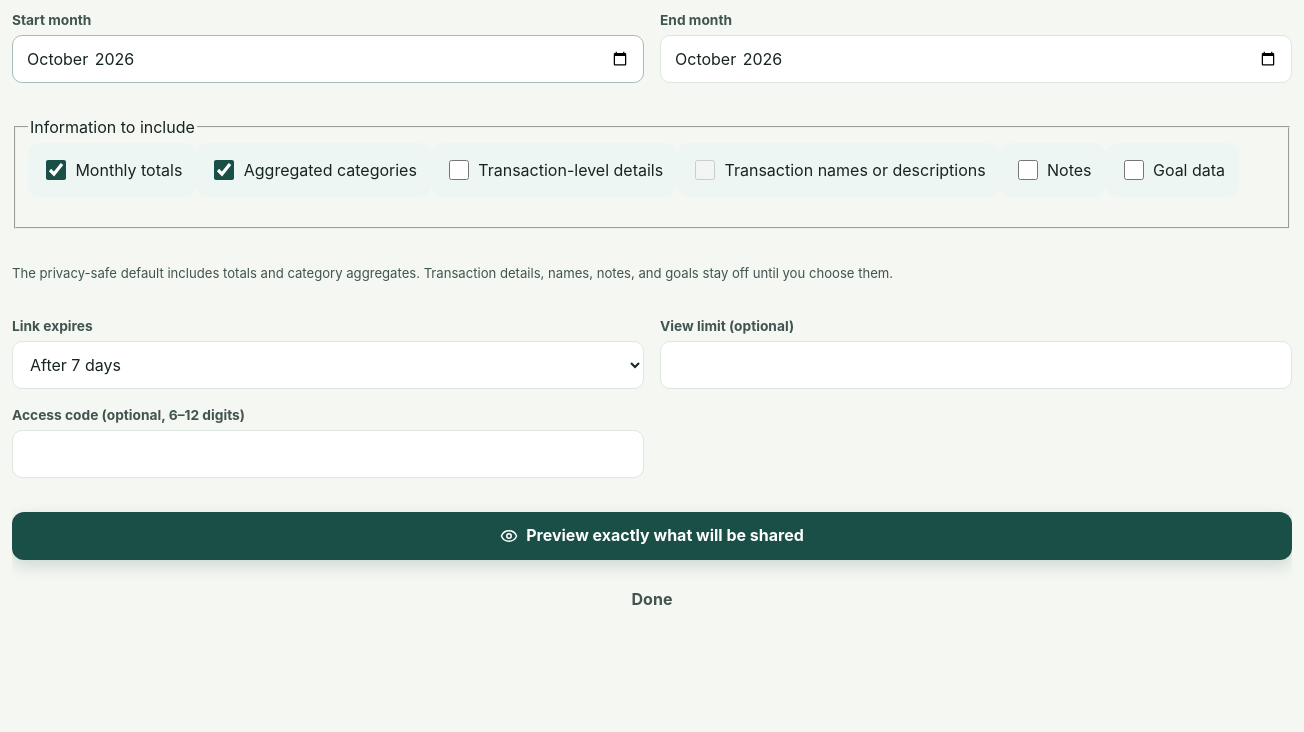
Scenario: ShareReportForm › enables names only after transaction details are explicitly selected
Click the checkbox labelled "Transaction-level details": x=459, y=170 top-left (449, 160), bottom-right (469, 180)
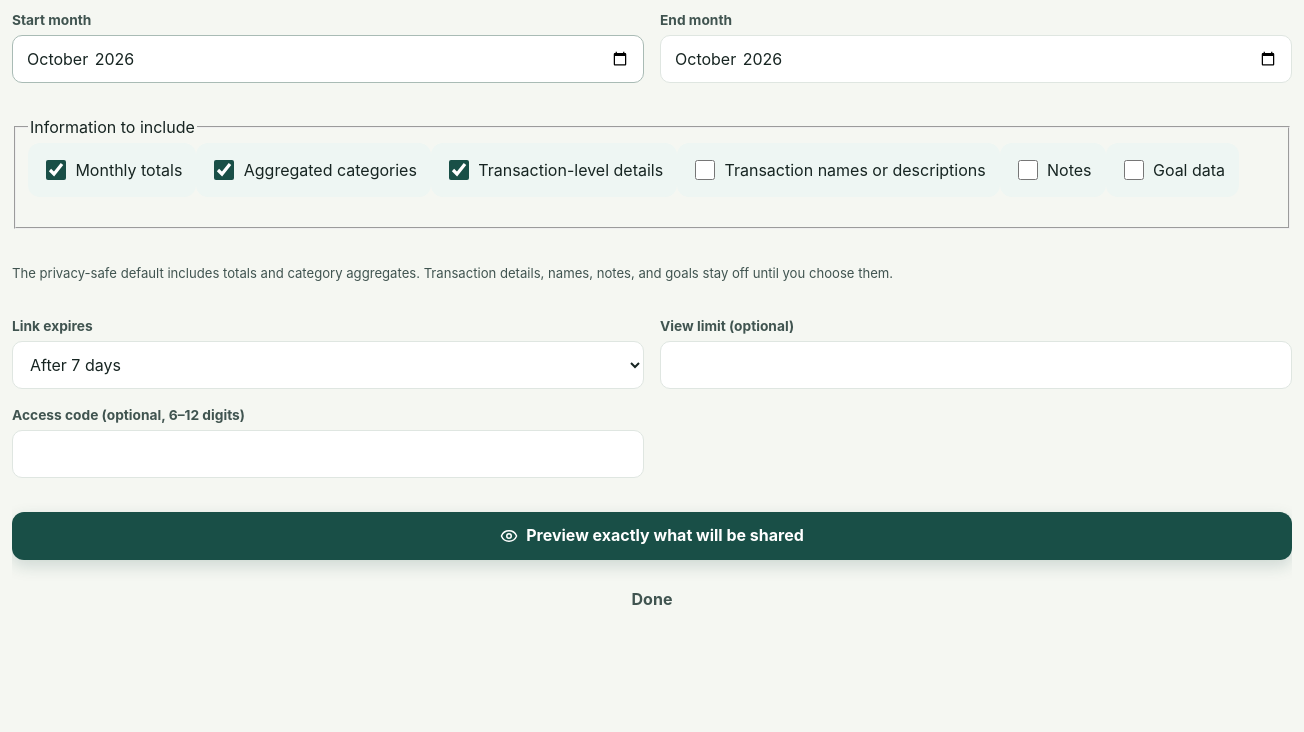
Expected: the checkbox labelled "Transaction names or descriptions" is not checked, top-left (695, 160), bottom-right (715, 180)
Result: the checkbox labelled "Transaction names or descriptions" is enabled at top-left (695, 160), bottom-right (715, 180)
